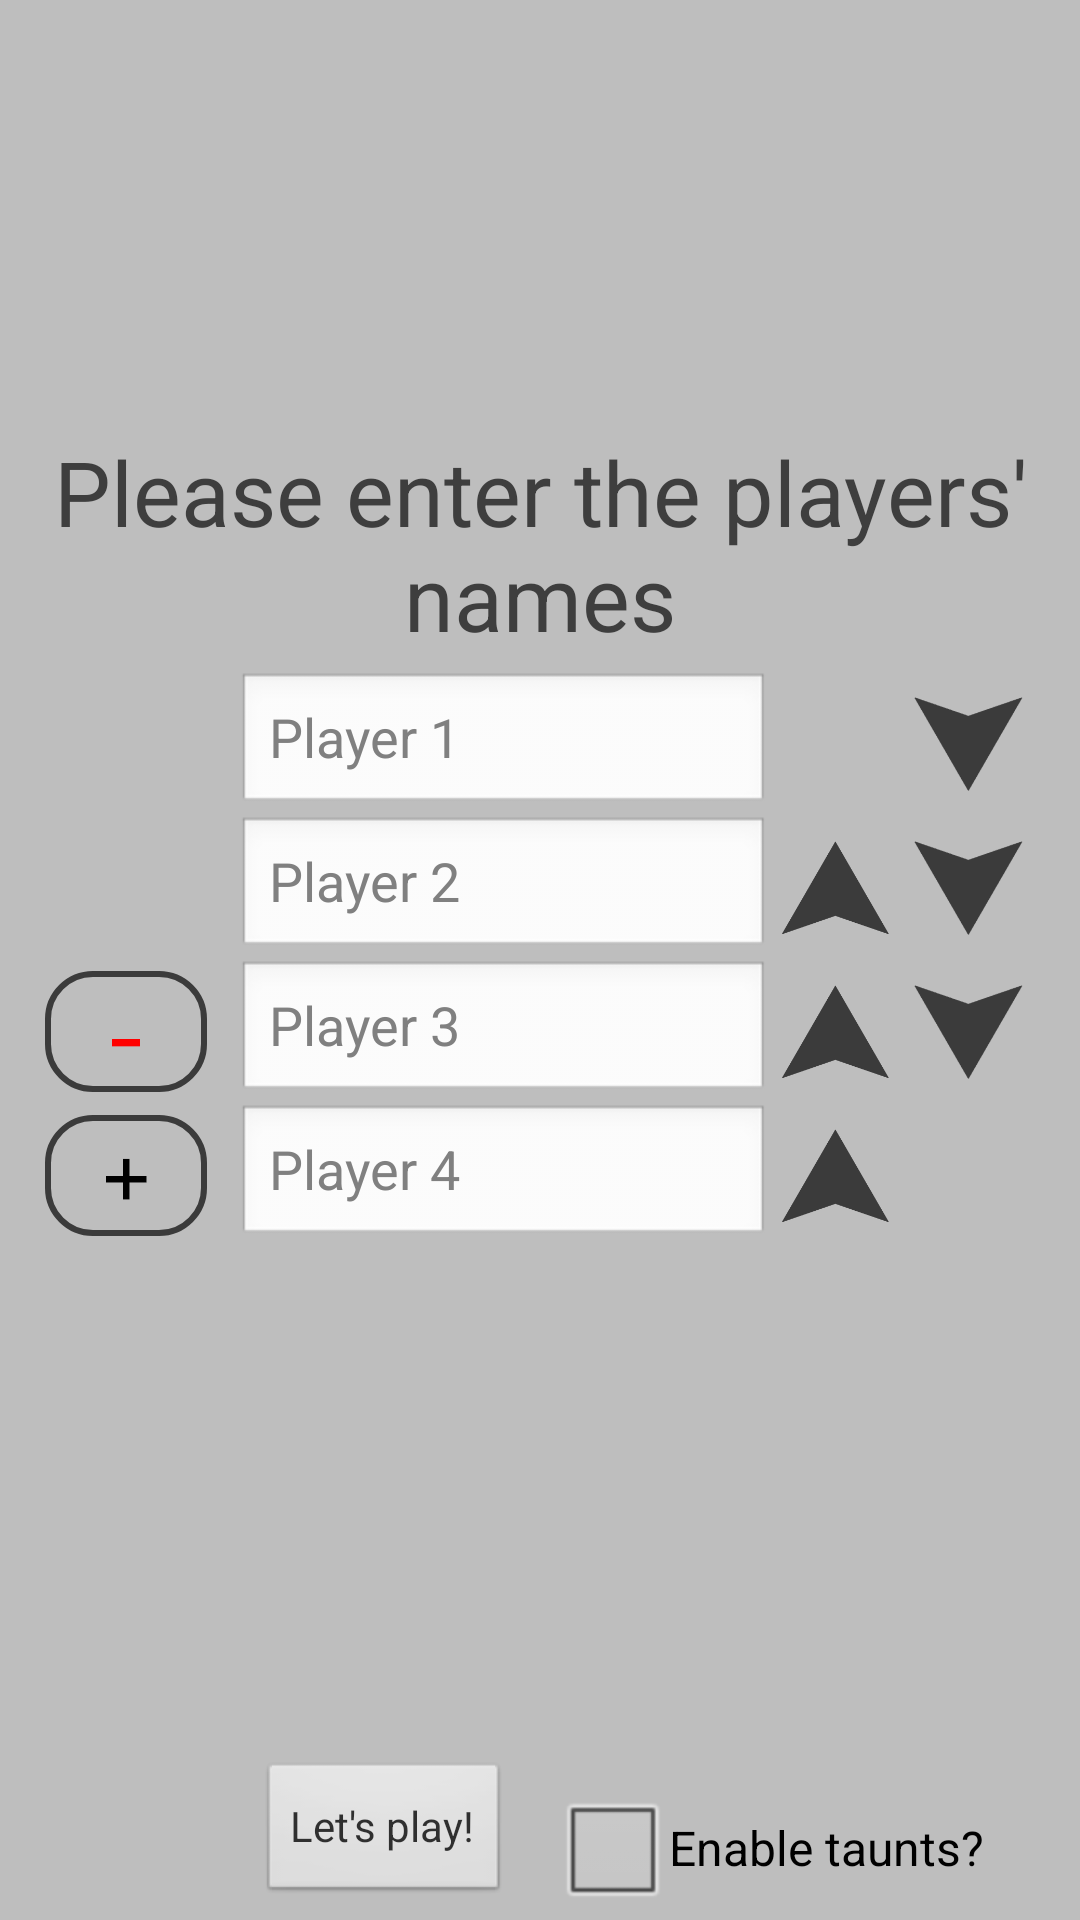

Screen size 1080px×1920px. Icon name, then its center in pixels as (x=x, y=y):
arrow down: (x=968, y=744), (x=968, y=888), (x=968, y=1032)
arrow up: (x=835, y=888), (x=835, y=1032), (x=835, y=1176)
